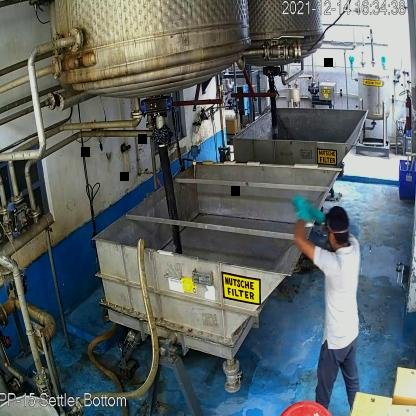glove: (290, 195, 312, 228)
